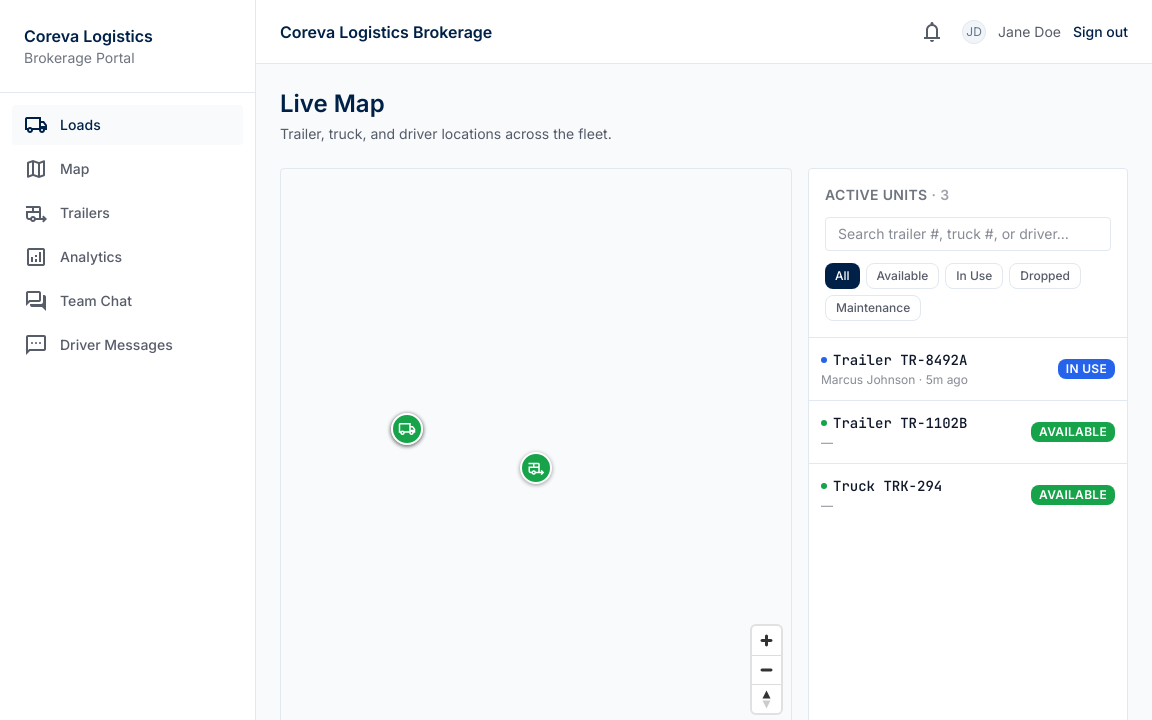
MapView › filters the list by search text, matching trailer or truck number
Expected: the text "Trailer TR-8492A" is shown, [821,350,968,370]
Step 1. Type "1102" into the search field with placeholder "Search trailer #, truck #, or driver…" → (968, 234), box [825,217,1111,251]
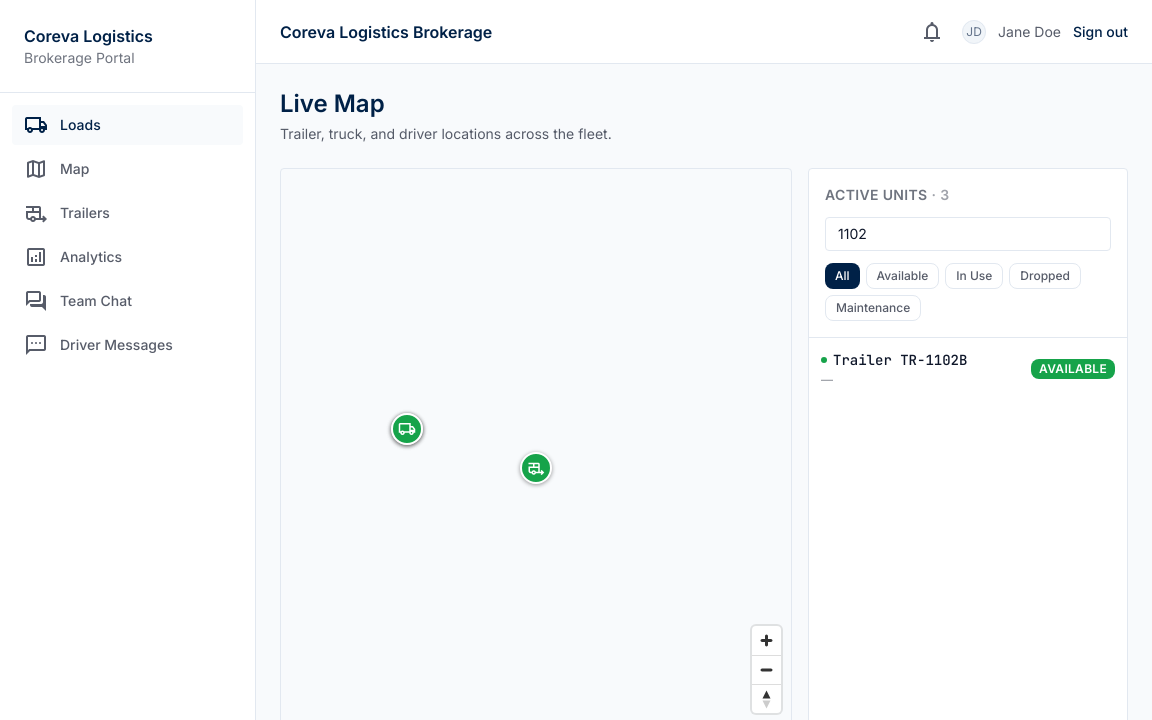
Expected: the text "Trailer TR-1102B" is shown, [821,350,967,370]
Now the button "Trailer TR-8492A" is gone
Step 2. Replace the text in the search field with placeholder "Search trailer #, truck #, or driver…" with "TRK-294" → (968, 234), box [825,217,1111,251]
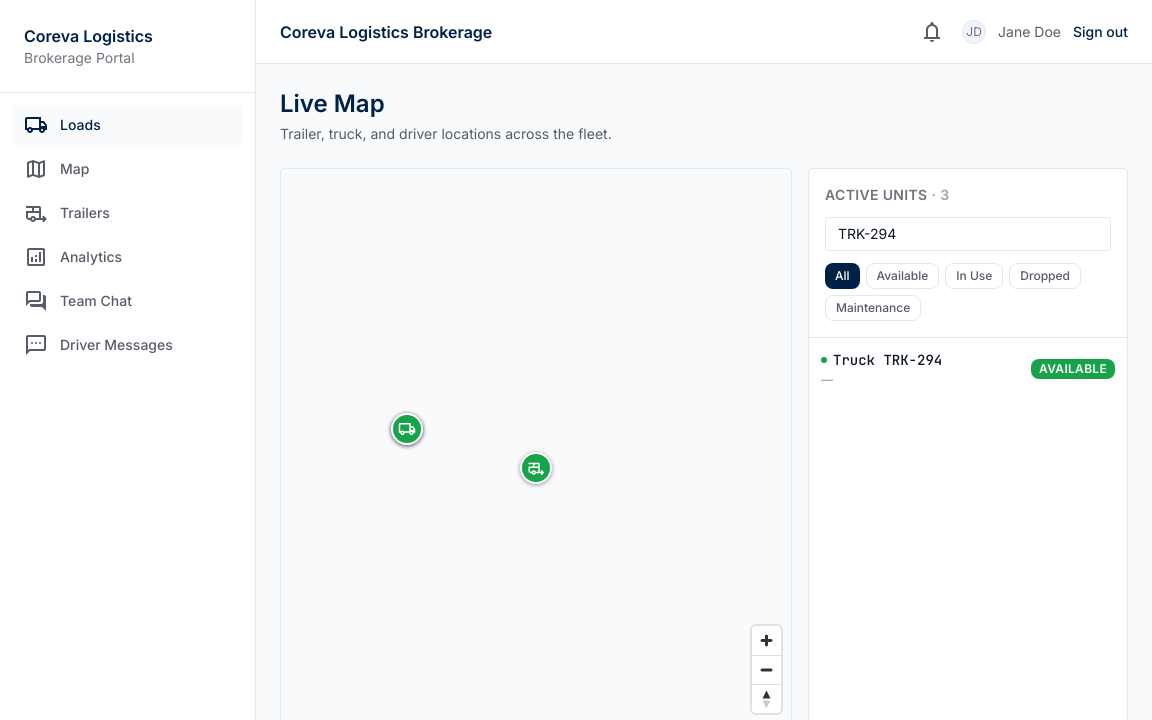
Now the text "Truck TRK-294" is shown, box [821,350,942,370]
Now the button "Trailer TR-1102B" is gone
